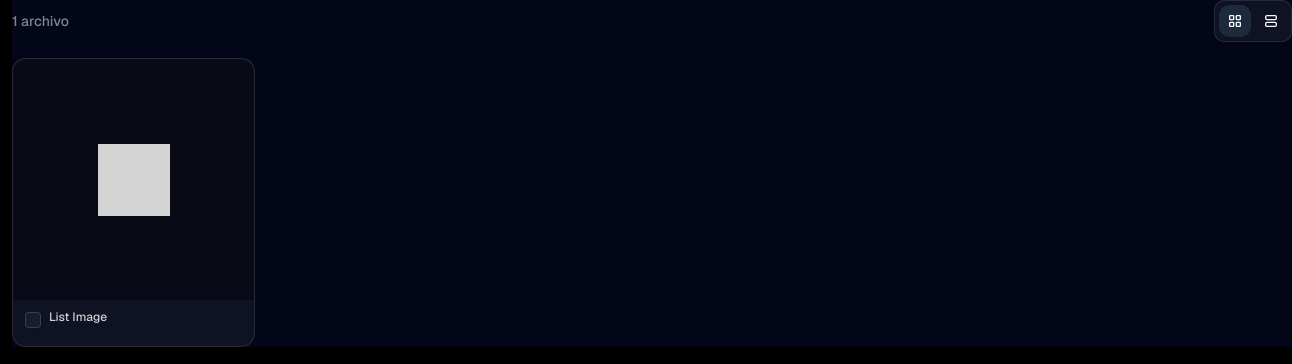
it: FileView › switches to list view
The width and height of the screenshot is (1292, 364).
# Find and click the list toggle button
Step 1. Click the button named "Vista de lista" → coordinates (1271, 21), box x1=1255 y1=5 x2=1287 y2=37
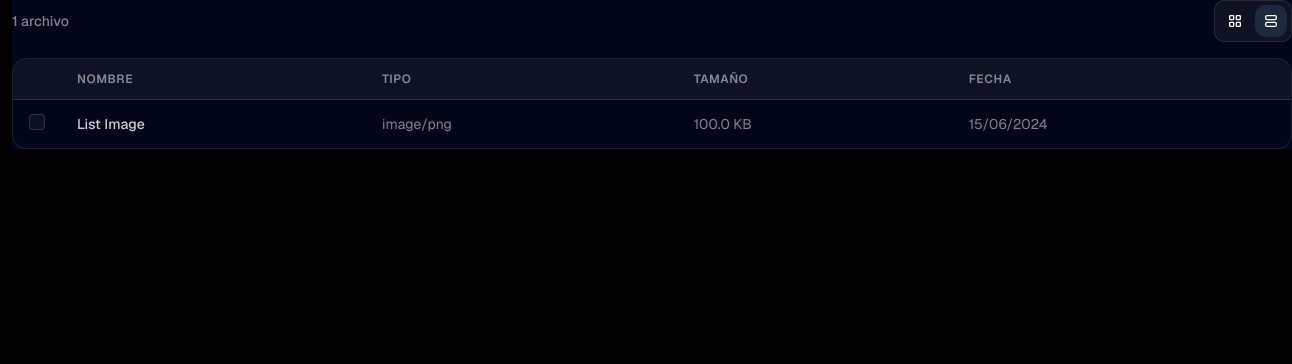
expect the column heading "Nombre" is shown: met, box x1=61 y1=59 x2=366 y2=100
